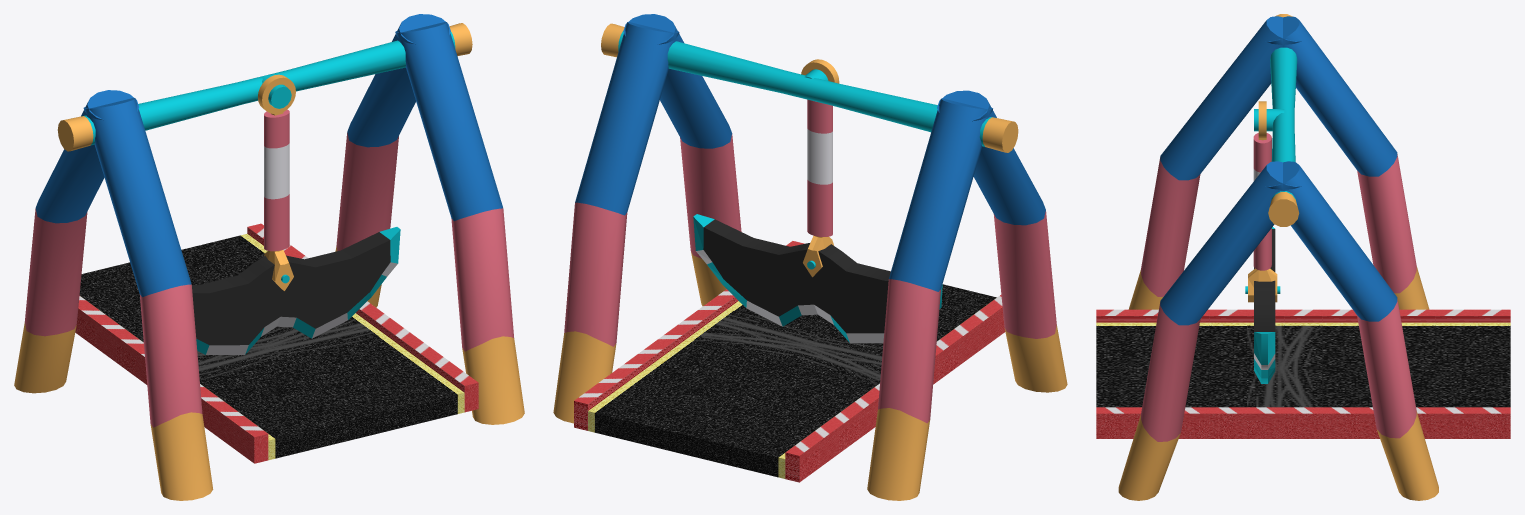
The model's file is Special track - Swinging axe.fbx.
3 views of the same model, side by side, from view 1: azimuth 30°, elevation 25°; view 2: azimuth 150°, elevation 25°; view 3: azimuth 270°, elevation 25° (orthographic). The views are drawn at different scales.
Visible parts, largest first — view 1: Speical Track - Swinging axe, Swinging axe; view 2: Speical Track - Swinging axe, Swinging axe; view 3: Speical Track - Swinging axe, Swinging axe.
Boxes of the visible parts, x1=… form: Speical Track - Swinging axe: x1=14, y1=14, x2=524, y2=500; Swinging axe: x1=192, y1=74, x2=400, y2=354; Speical Track - Swinging axe: x1=553, y1=14, x2=1067, y2=500; Swinging axe: x1=693, y1=59, x2=942, y2=343; Speical Track - Swinging axe: x1=1096, y1=14, x2=1510, y2=500; Swinging axe: x1=1245, y1=101, x2=1284, y2=383.
Size of the model in its own units: 106 by 85.84 by 100.
